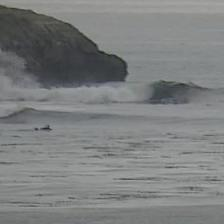surfer: (35, 125, 53, 131)
